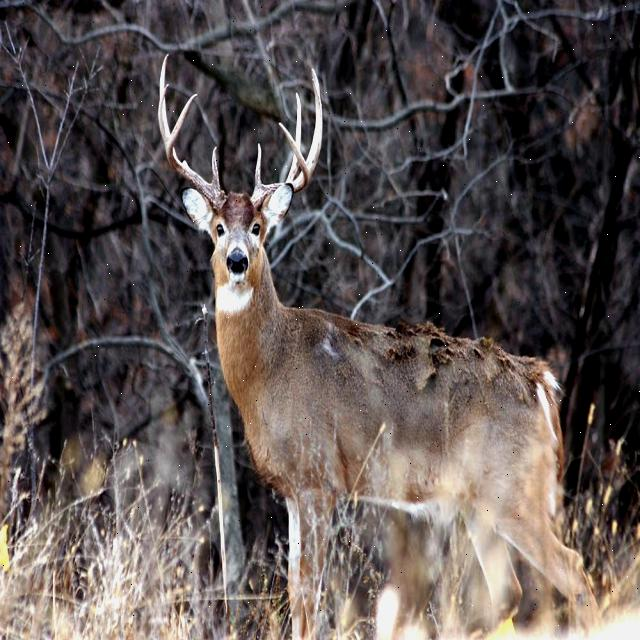deer: (153, 54, 568, 487)
